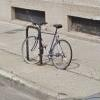Bicycle: (20, 14, 75, 77)
